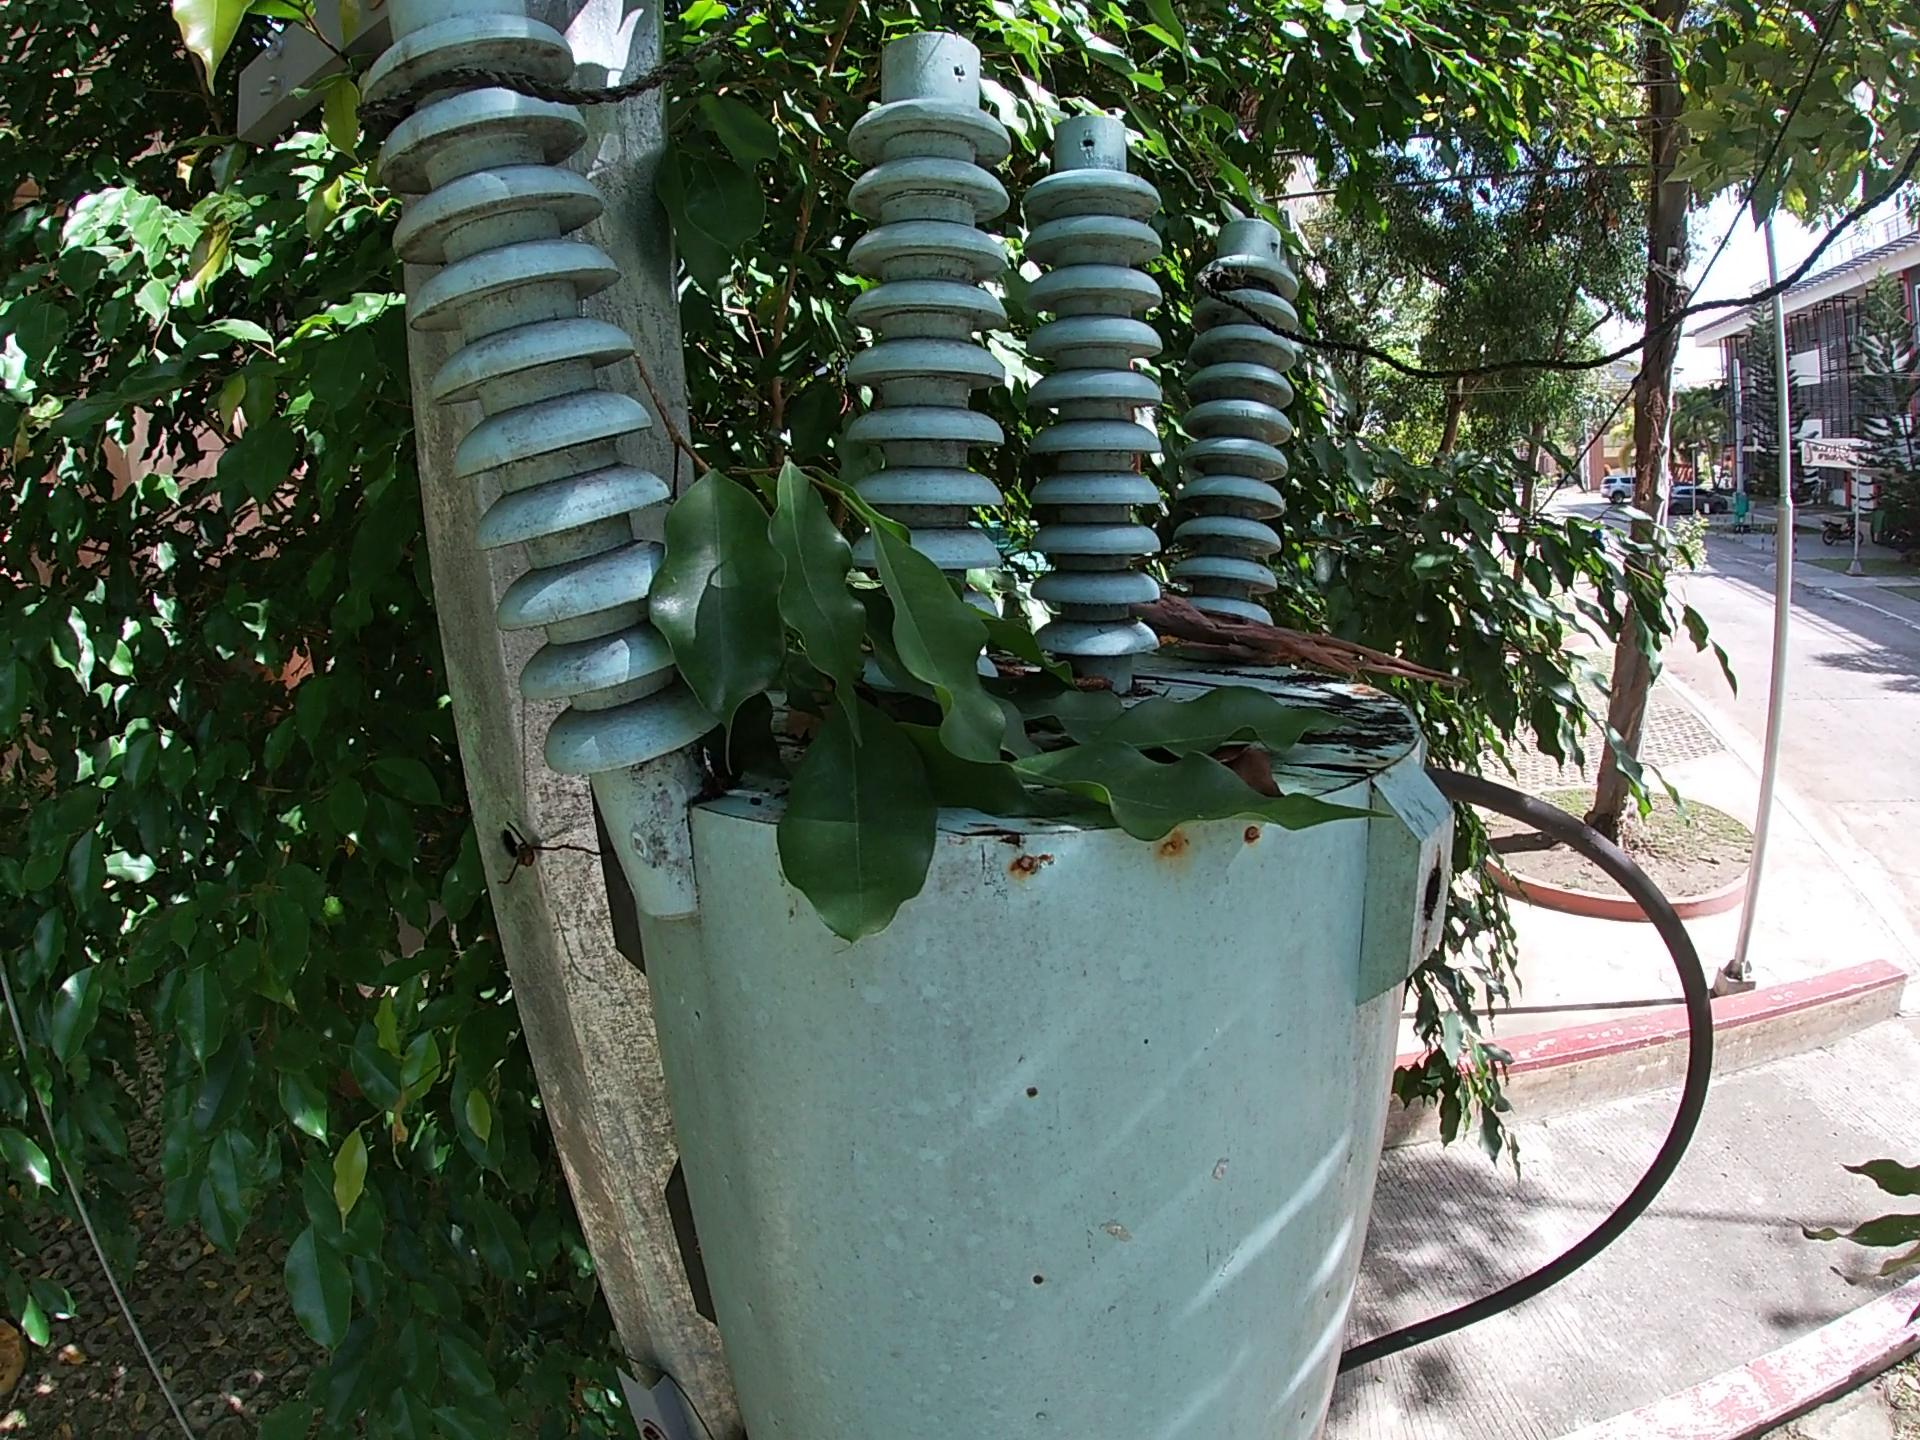branch with leaves: (605, 355, 1411, 967)
mahogany fruit: (1206, 750, 1297, 802), (992, 672, 1107, 691)
tree branch: (1119, 576, 1479, 696), (1132, 672, 1398, 722)
